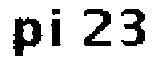2: (78, 5, 112, 51)
3: (116, 8, 146, 48)
i: (50, 5, 66, 51)
p: (8, 14, 44, 60)
